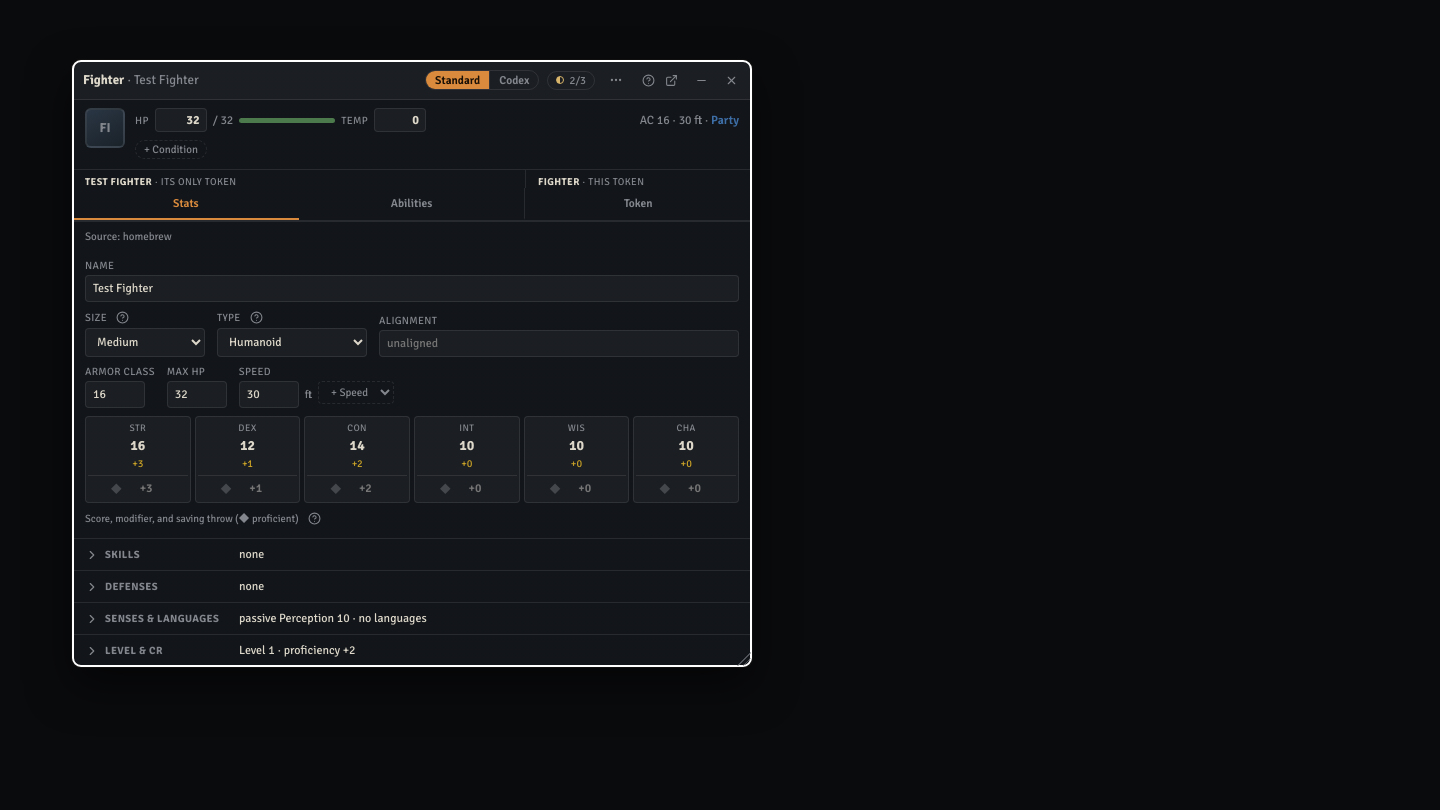
Test: ⋯ › Make it its own creature › is disabled for the only token of its creature, saying why
Click the button named "More actions" at (614,80), box 603,69 -> 625,91
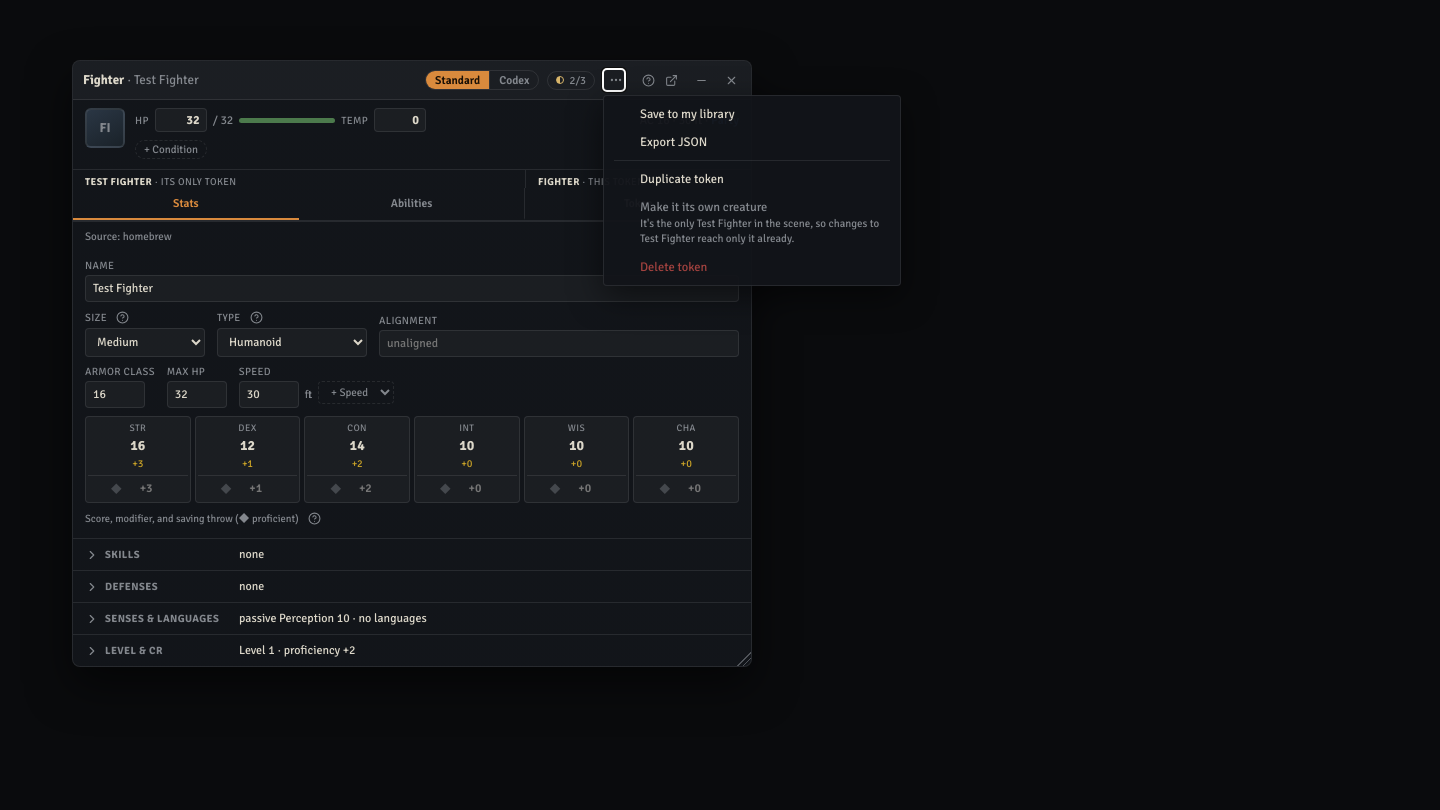
Expected: the menu item "Make it its own creature" is disabled, 608,193 -> 896,253
